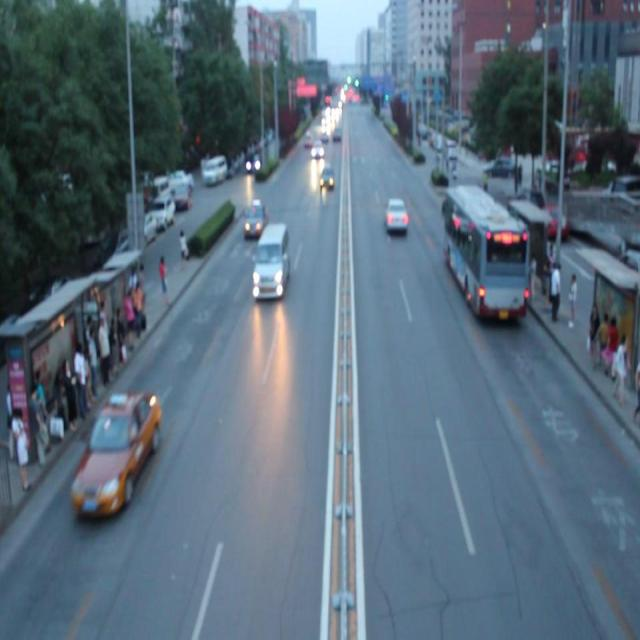car: (73, 388, 161, 519), (383, 196, 409, 234), (242, 199, 264, 236), (319, 165, 334, 193)
truck: (255, 225, 289, 299)
van: (442, 185, 528, 323)
